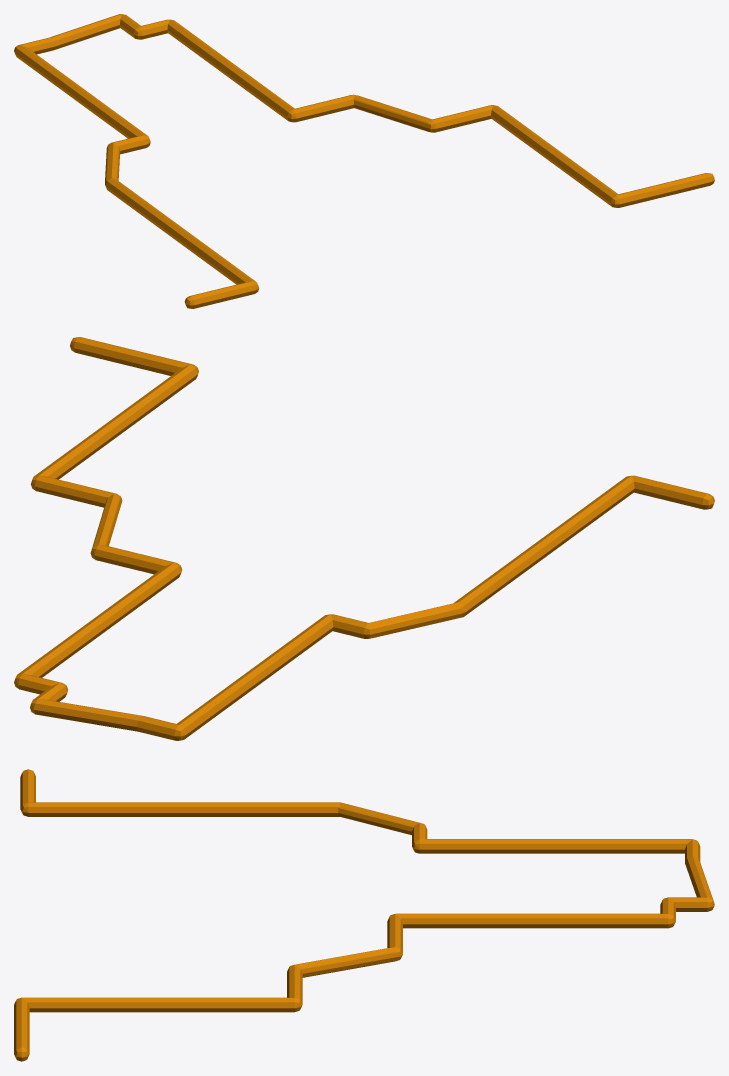
3 renders of one model, top to bottom at view 1: azimuth 30°, elevation 25°; view 2: azimuth 150°, elevation 25°; view 3: azimuth 270°, elevation 25°, orthographic. The views are drawn at different scales.
Size of the model in its own units: 863 by 20 by 899.
